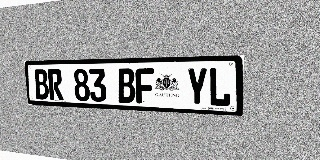3: (89, 69, 107, 102)
8: (73, 69, 90, 101)
B: (117, 68, 136, 103), (34, 69, 49, 100)
F: (135, 68, 154, 104)
L: (208, 67, 231, 107)
R: (47, 69, 64, 100)
Y: (186, 67, 208, 106)
